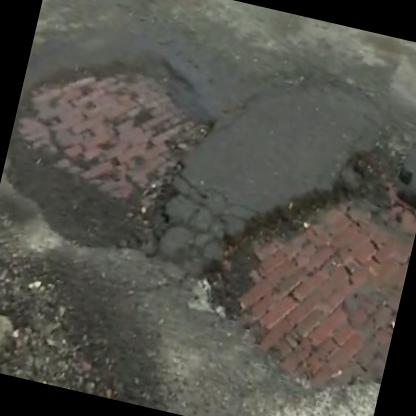pothole: (178, 109, 416, 396), (0, 34, 227, 269)
